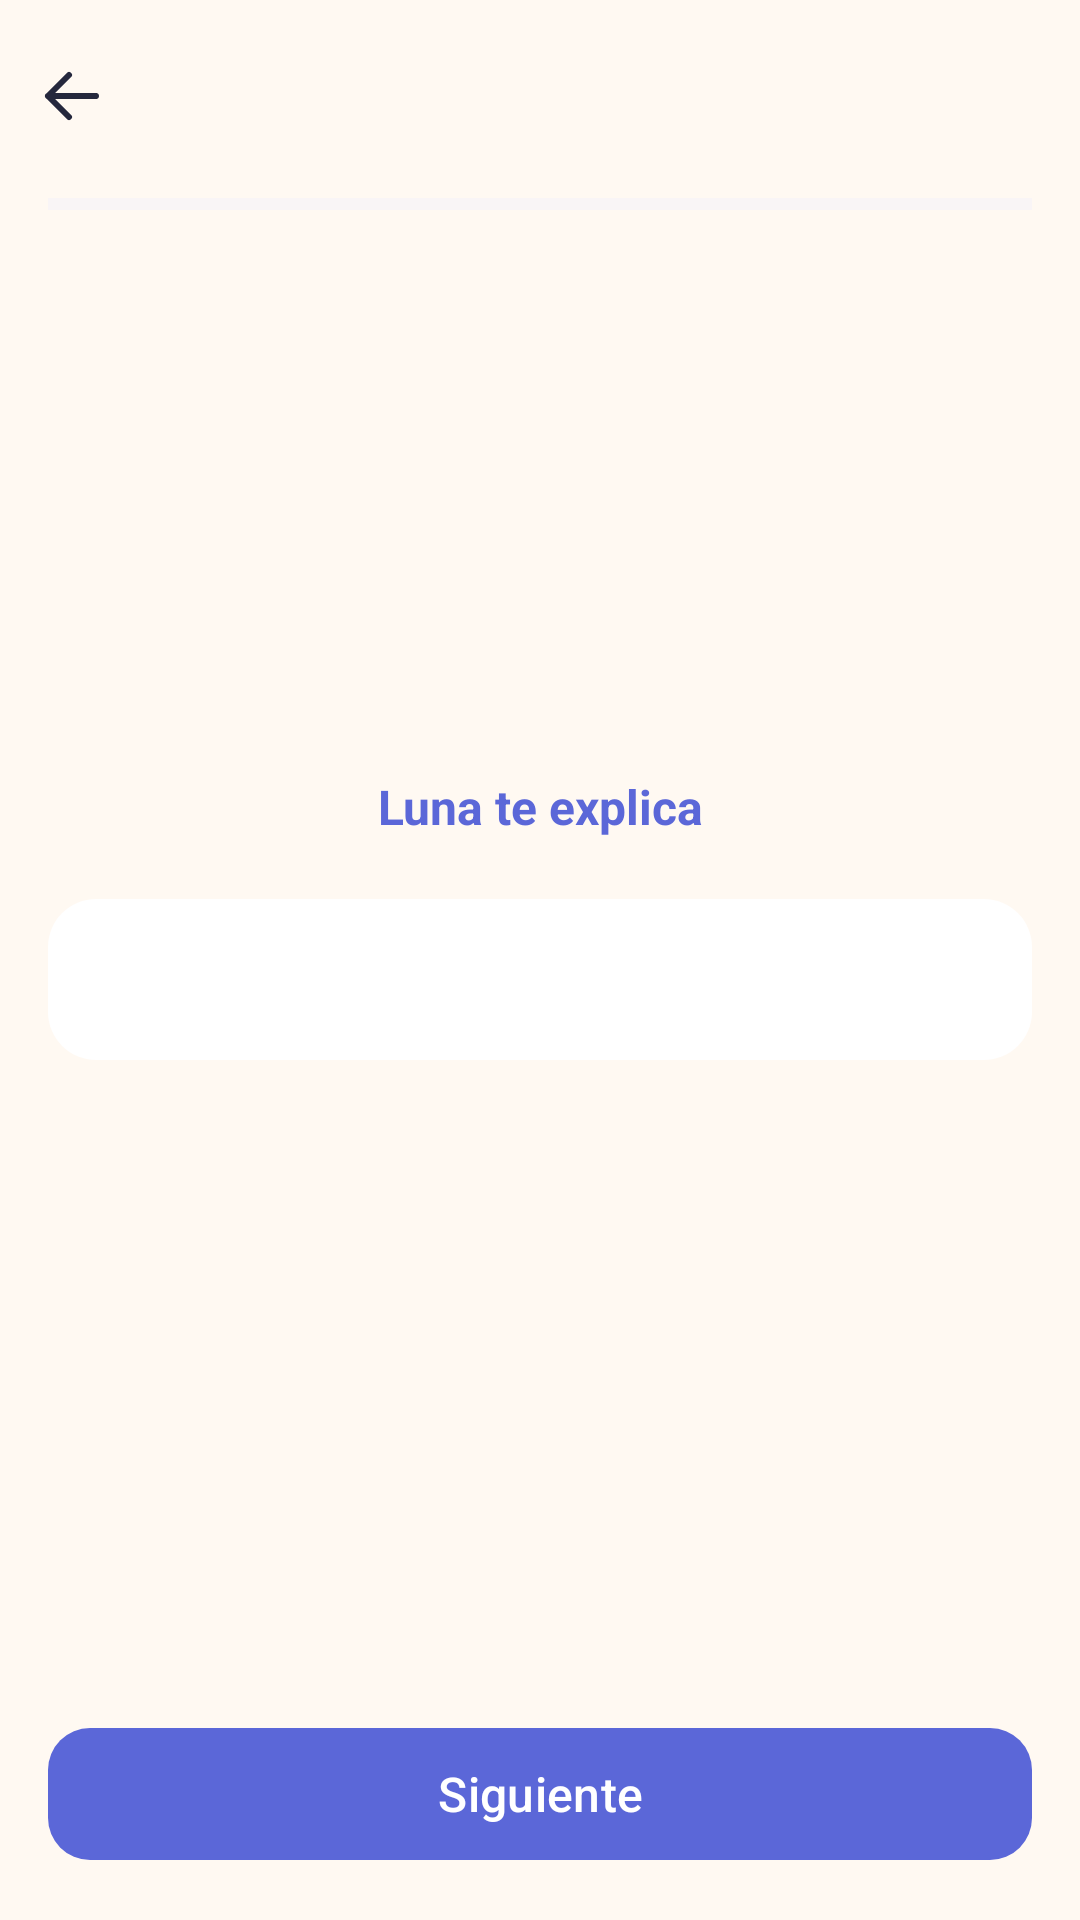

Screen size 1080×1920. Icon name, then its center in pixels as (x=x, y=y):
Volver al inicio: (x=72, y=96)
